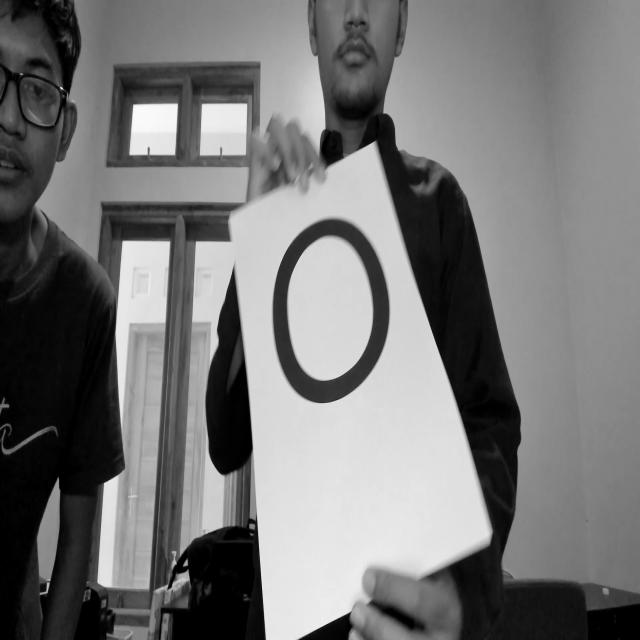o: (269, 207, 399, 413)
